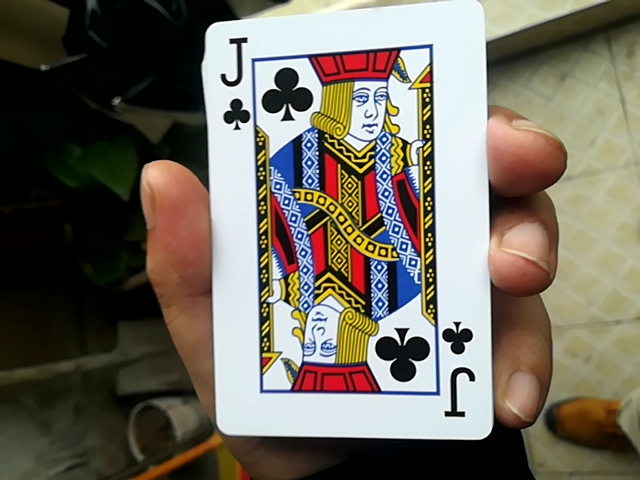mh j: (195, 1, 492, 427)
